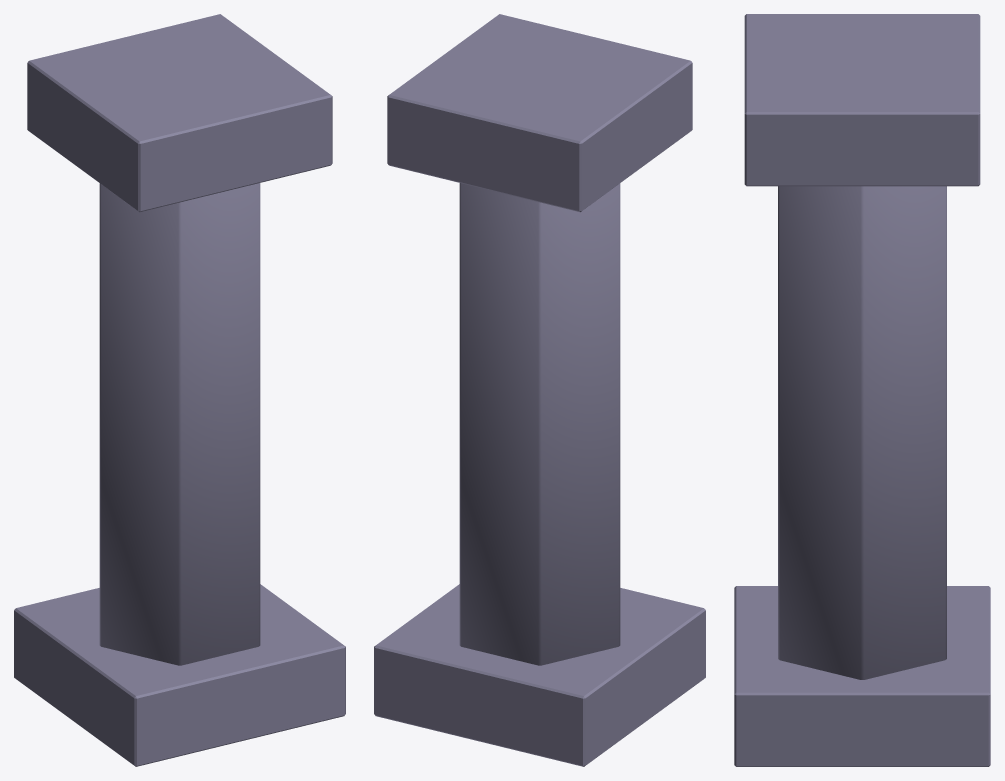
The model's file is stone_pillar_01.glb.
3 views of the same model, side by side, from view 1: azimuth 30°, elevation 25°; view 2: azimuth 150°, elevation 25°; view 3: azimuth 270°, elevation 25° (orthographic). The views are drawn at different scales.
Visible parts, largest first — view 1: stone_pillar_01; view 2: stone_pillar_01; view 3: stone_pillar_01.
Boxes of the visible parts, <box> form: stone_pillar_01: <box>14,14,345,766</box>; stone_pillar_01: <box>374,14,705,766</box>; stone_pillar_01: <box>734,14,990,766</box>.
Bounding box in the file's own units: 0.5 × 1.4 × 0.5.
